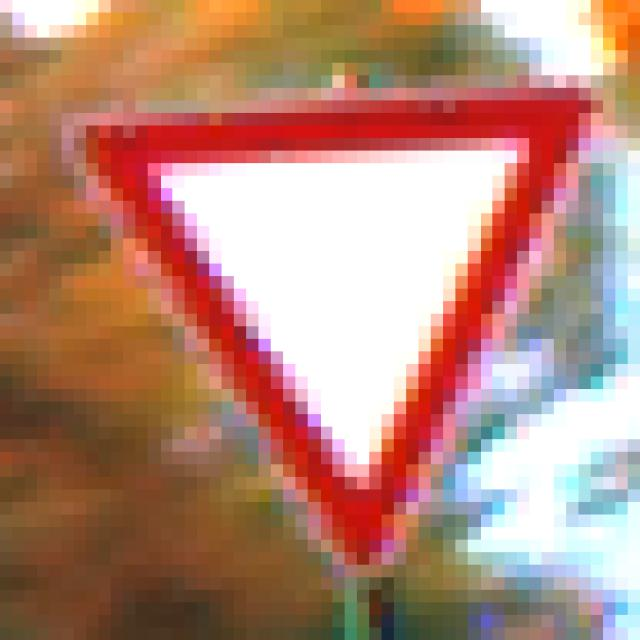Give Way: (63, 77, 580, 579)
